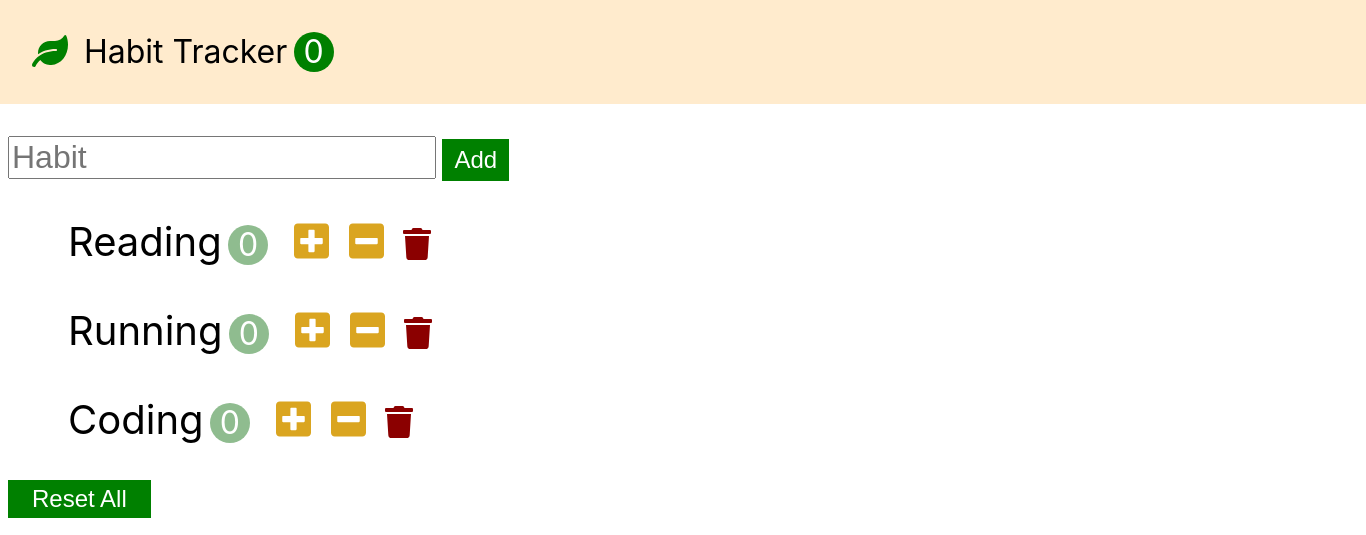
Test: 해빗 트래커 › 각 습관은 증가 버튼을 통해서 카운트를 증가시킬 수 있다.
Click the button titled "increase" in the row of "Reading" at [312, 243], box [288, 219, 335, 266]
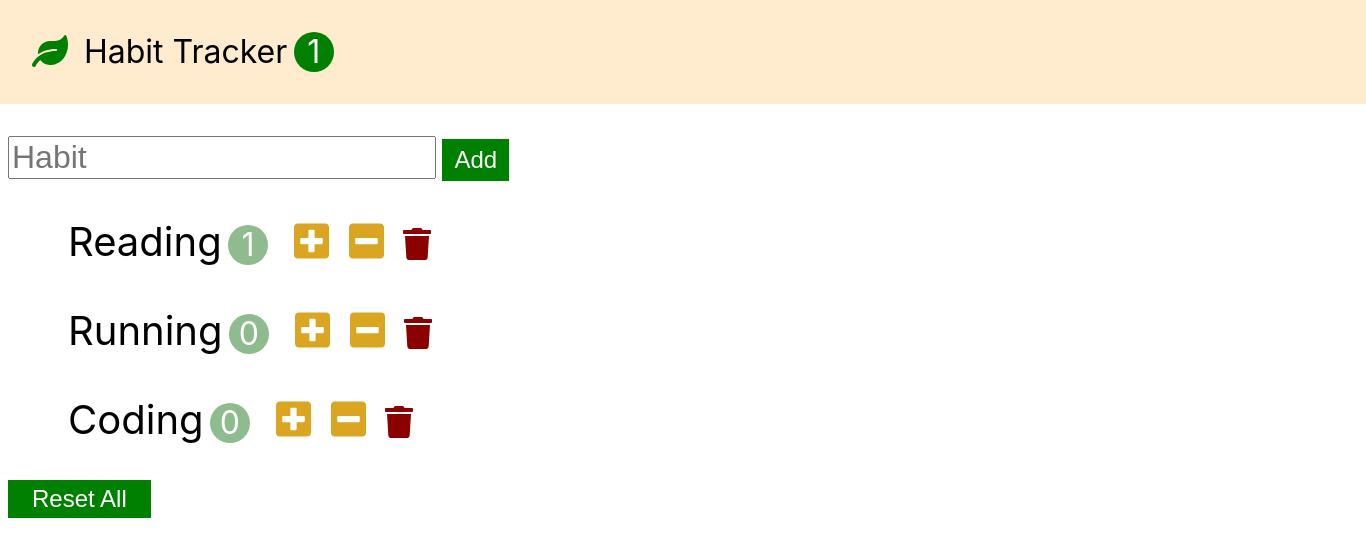
Check: the text with test id "habit-count" next to "Reading" reads "1", box [228, 225, 268, 265]
